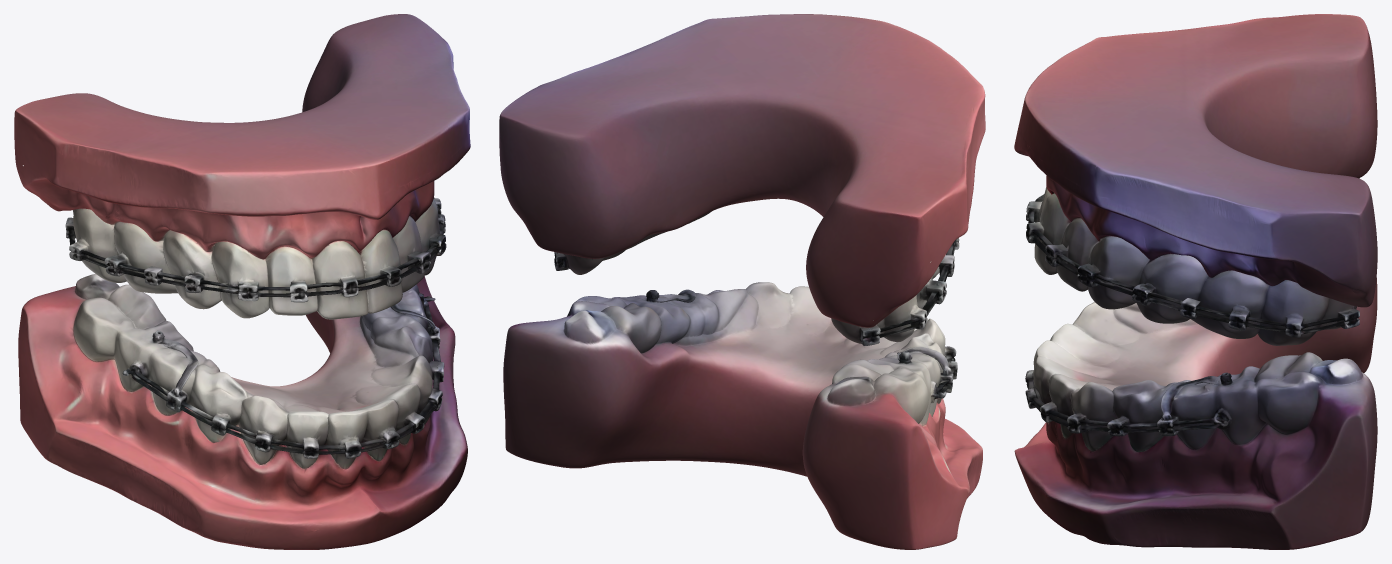
The model's file is teeth.glb.
3 renders of one model, left to right at view 1: azimuth 30°, elevation 25°; view 2: azimuth 150°, elevation 25°; view 3: azimuth 270°, elevation 25°, orthographic. The views are drawn at different scales.
Parts seen in each view (by area): view 1: tripo_node_e7f26fdb-e054-4b67-b990-229740a2248d; view 2: tripo_node_e7f26fdb-e054-4b67-b990-229740a2248d; view 3: tripo_node_e7f26fdb-e054-4b67-b990-229740a2248d.
Part boxes in pixels (bbox=[...]): tripo_node_e7f26fdb-e054-4b67-b990-229740a2248d: bbox=[14, 14, 470, 549]; tripo_node_e7f26fdb-e054-4b67-b990-229740a2248d: bbox=[499, 14, 985, 549]; tripo_node_e7f26fdb-e054-4b67-b990-229740a2248d: bbox=[1014, 14, 1377, 549].
Bounding box in the file's own units: 2 × 1.83 × 1.53.
Materials: 1 (1 with a texture image).
